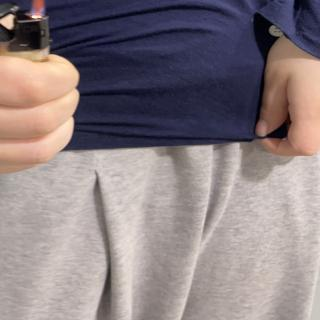fire: (31, 0, 49, 18)
